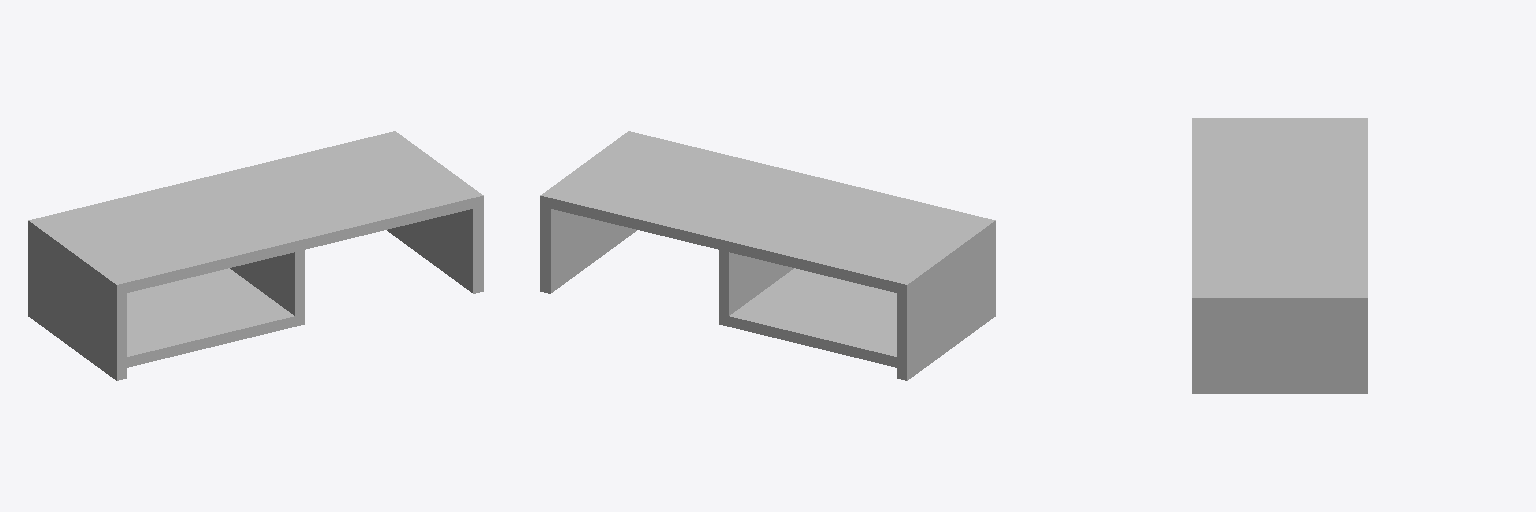
File: table-modern.obj
The picture shows the model from 3 angles: view 1: azimuth 30°, elevation 25°; view 2: azimuth 150°, elevation 25°; view 3: azimuth 270°, elevation 25°; orthographic projection.
Parts seen in each view (by area): view 1: table_Cube.001; view 2: table_Cube.001; view 3: table_Cube.001.
Boxes of the visible parts, box(x1,y1,x2,y2) form: table_Cube.001: box(28, 131, 483, 380); table_Cube.001: box(540, 131, 995, 380); table_Cube.001: box(1192, 118, 1367, 393).
Bounding box in the file's own units: 1.8 × 0.45 × 0.75.